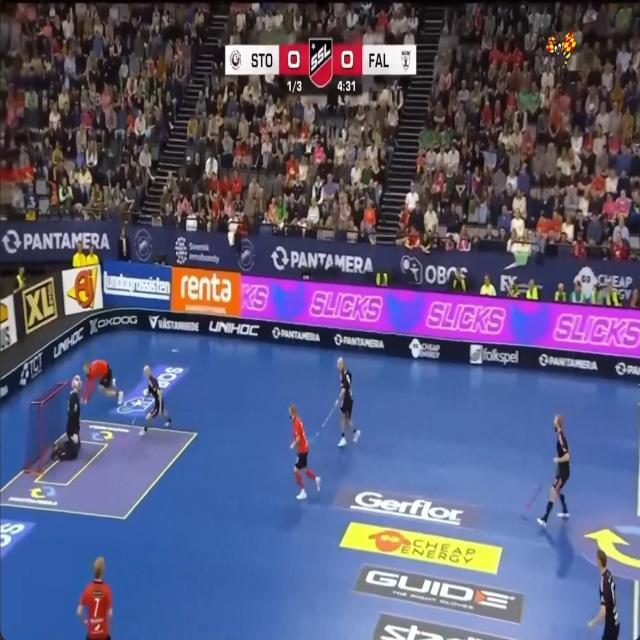player: (537, 414, 569, 526), (289, 404, 320, 499), (588, 549, 620, 639), (78, 556, 112, 639), (50, 375, 81, 460), (335, 358, 360, 447), (139, 366, 170, 434), (82, 360, 123, 403)
stick: (315, 404, 334, 437), (526, 485, 542, 509)
